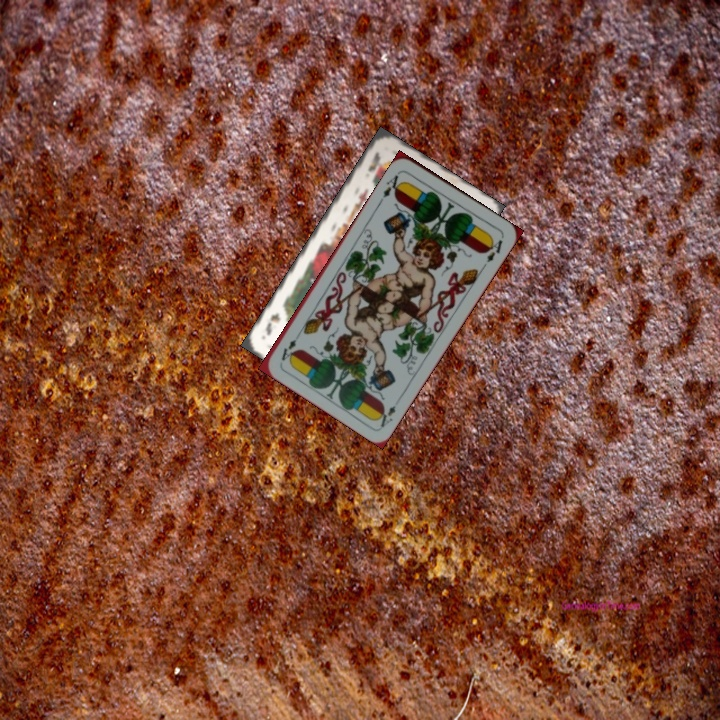EA: (378, 168, 406, 200), (373, 401, 398, 430)
SK: (364, 147, 383, 174)
